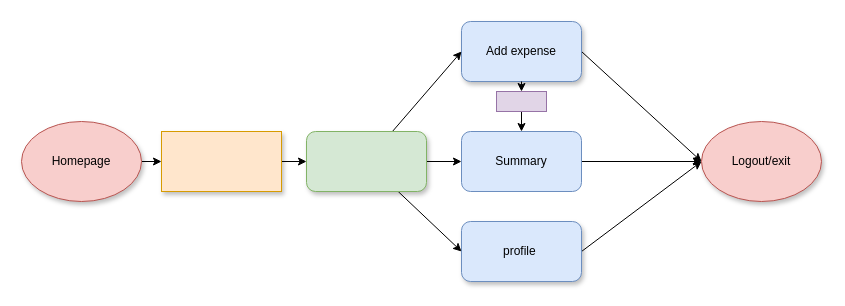
Some shapes in this 845 by 306 pixel diagram are drawn without their labels. The shapes that lost their labels are listed below. From the top down, each one's centre as x and y in pixels, then its label:
At (x=521, y=101): "Pipeline".
At (x=222, y=162): "login/register".
At (x=367, y=162): "Dashboard".
